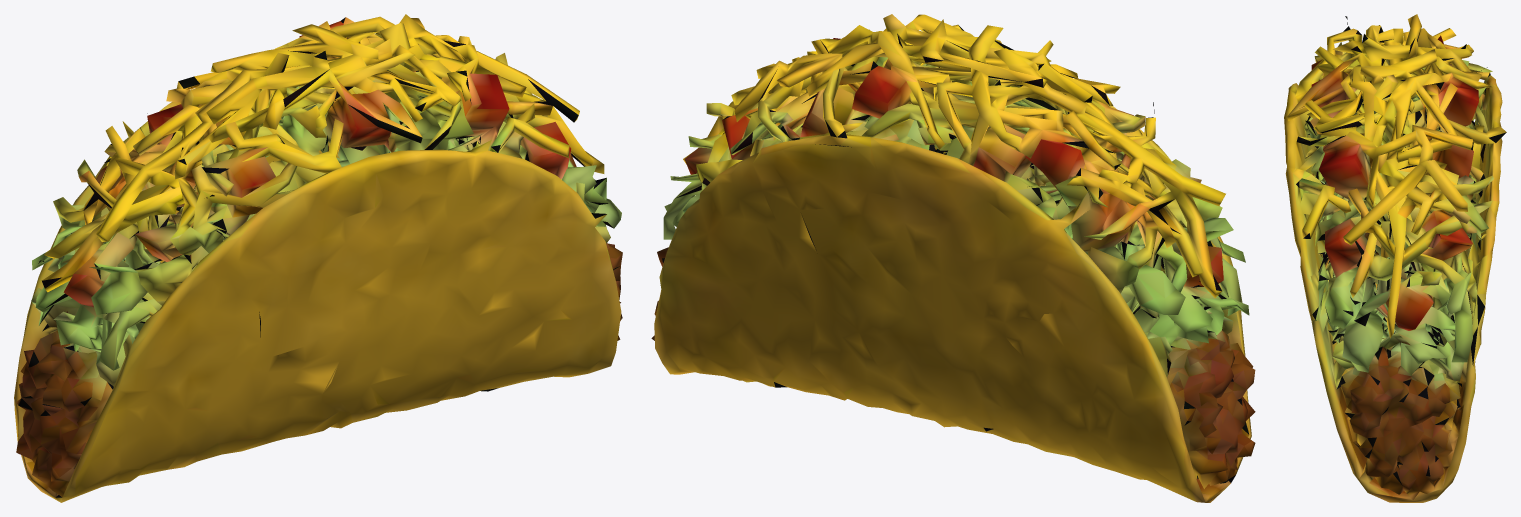
The model's file is food-taco-phone.glb.
The picture shows the model from 3 angles, left to right: view 1: azimuth 30°, elevation 25°; view 2: azimuth 150°, elevation 25°; view 3: azimuth 270°, elevation 25°; orthographic projection. The views are drawn at different scales.
Visible parts, largest first — view 1: Model; view 2: Model; view 3: Model.
Part boxes in pixels (x1,y1,x2,y2): Model: (14,14,622,502); Model: (651,14,1255,502); Model: (1284,14,1506,502).
Bounding box in the file's own units: 1.91 × 1.26 × 0.7317.
1 material, 1 textured.
